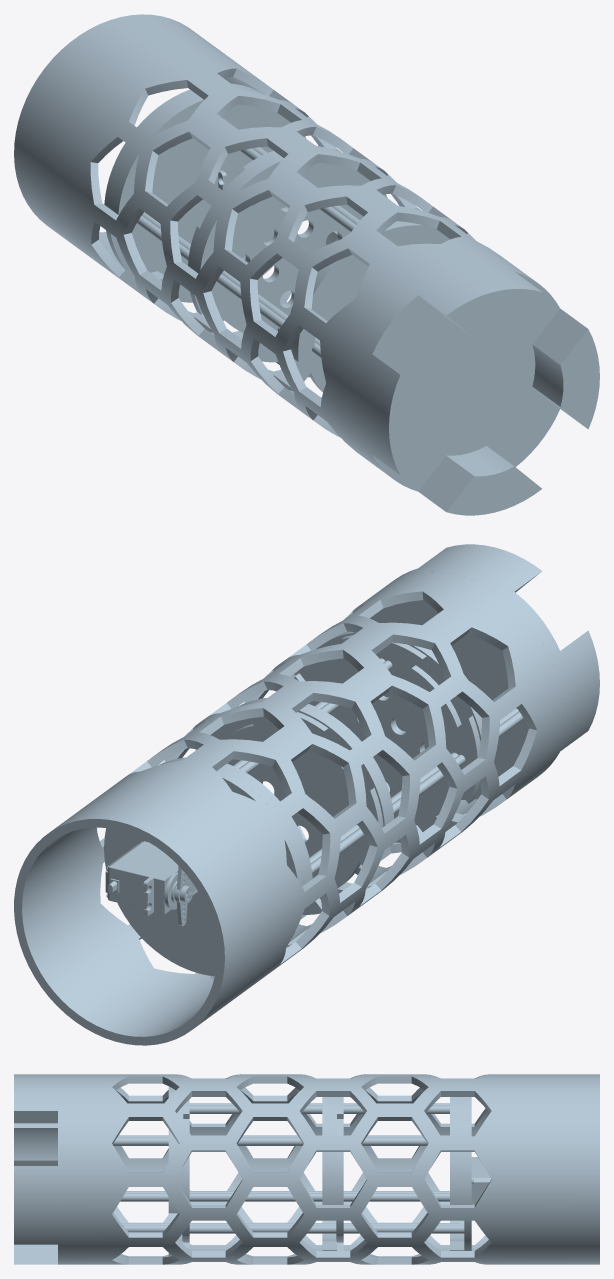
Rendered from cansat.glb.
3 views of the same model, one above another, from view 1: azimuth 30°, elevation 25°; view 2: azimuth 150°, elevation 25°; view 3: azimuth 270°, elevation 25° (orthographic). The views are drawn at different scales.
Parts seen in each view (by area): view 1: cansat; view 2: cansat; view 3: cansat.
Boxes of the visible parts, <box> form: cansat: <box>14,14,599,515</box>; cansat: <box>14,544,599,1045</box>; cansat: <box>14,1074,599,1264</box>.
Bounding box in the file's own units: 130 × 130 × 400.
